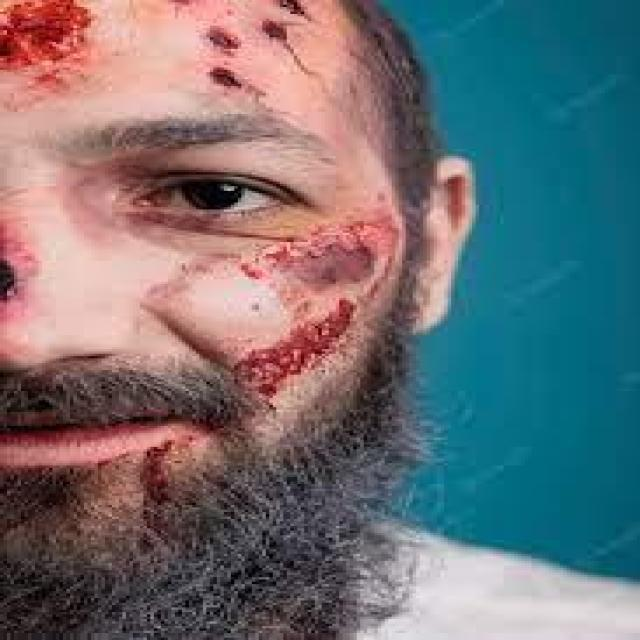flood: (192, 234, 362, 392), (0, 0, 105, 112), (208, 1, 326, 98)
